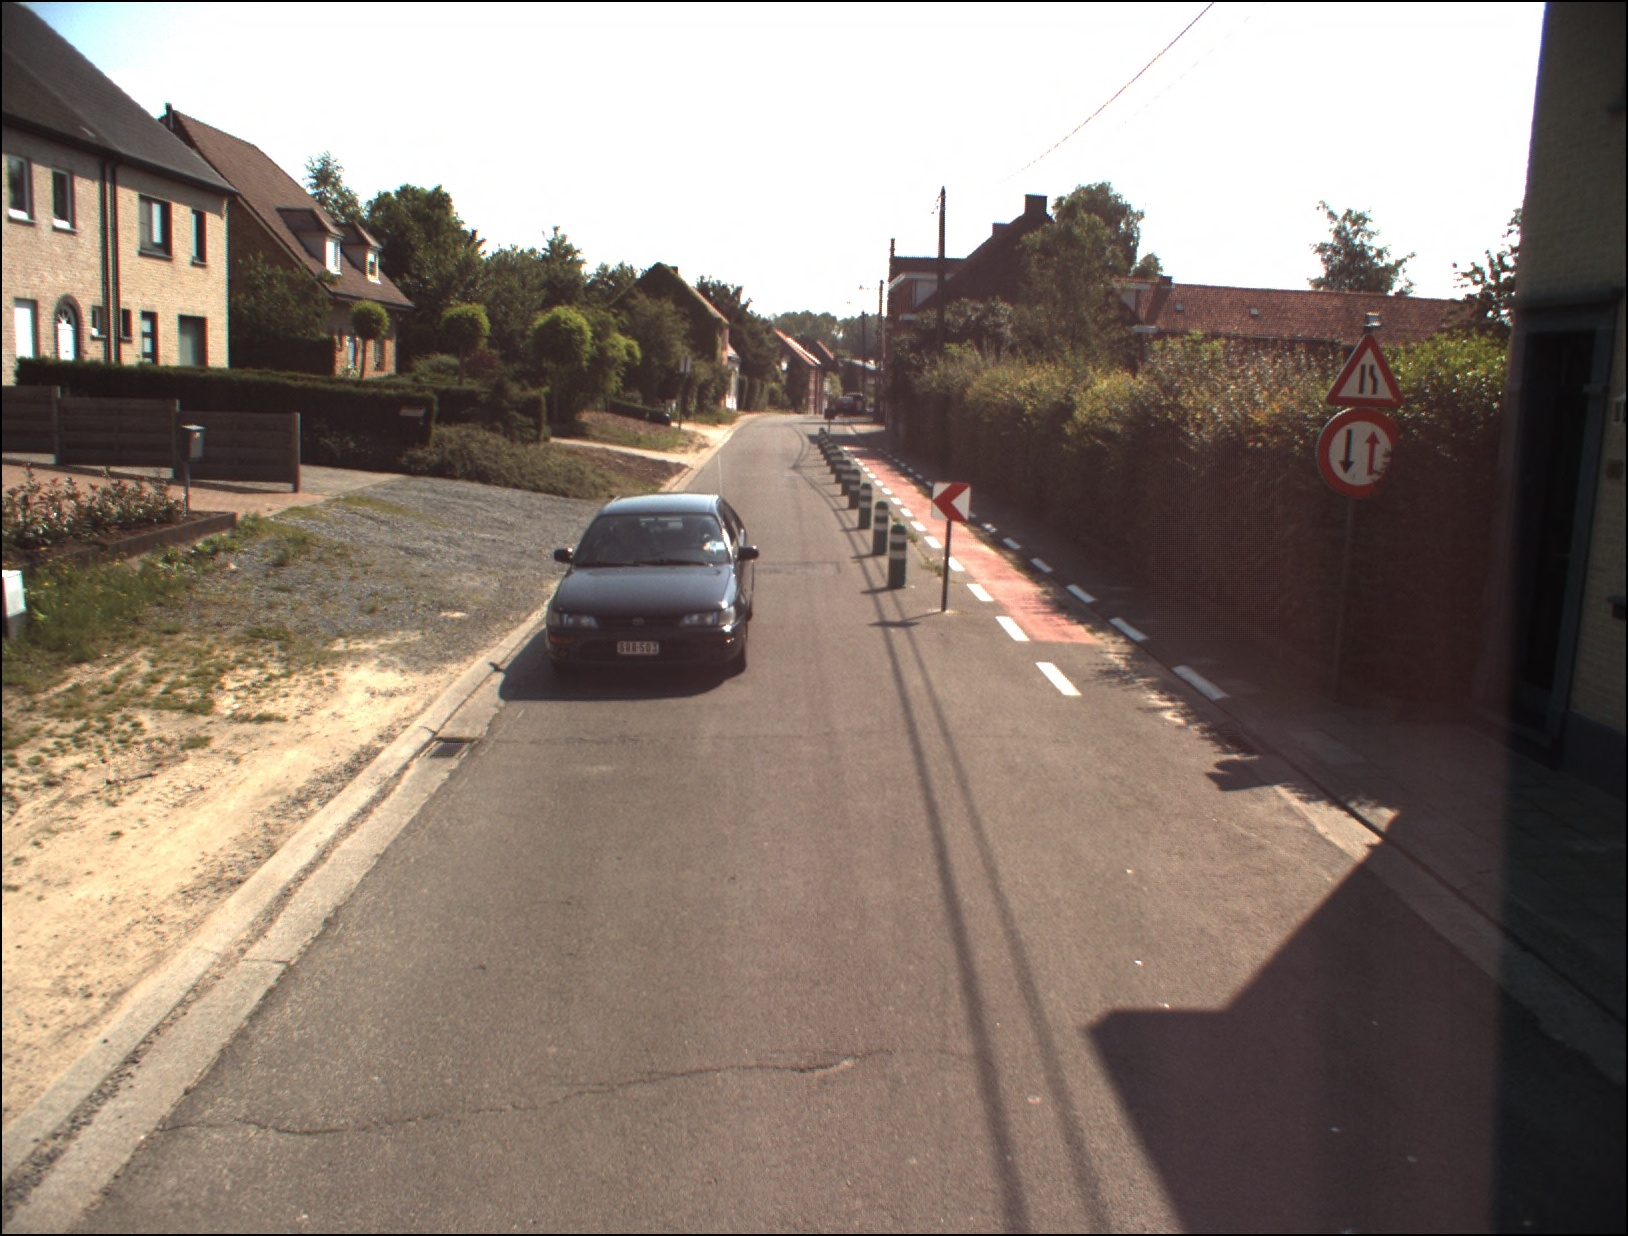roadnarrow2: (1316, 409, 1397, 500)
